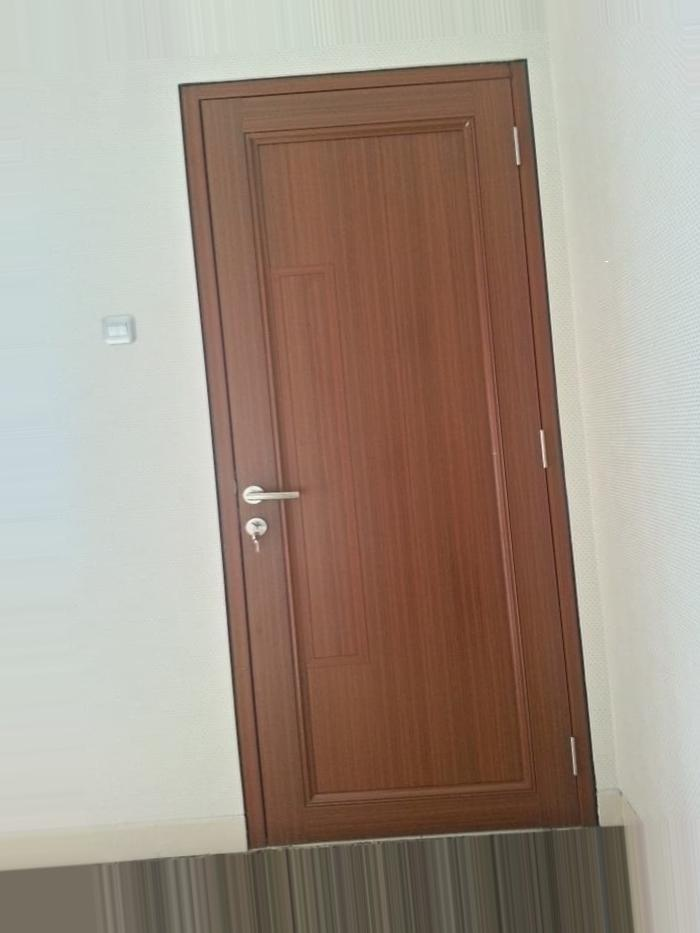door: (170, 50, 558, 854)
